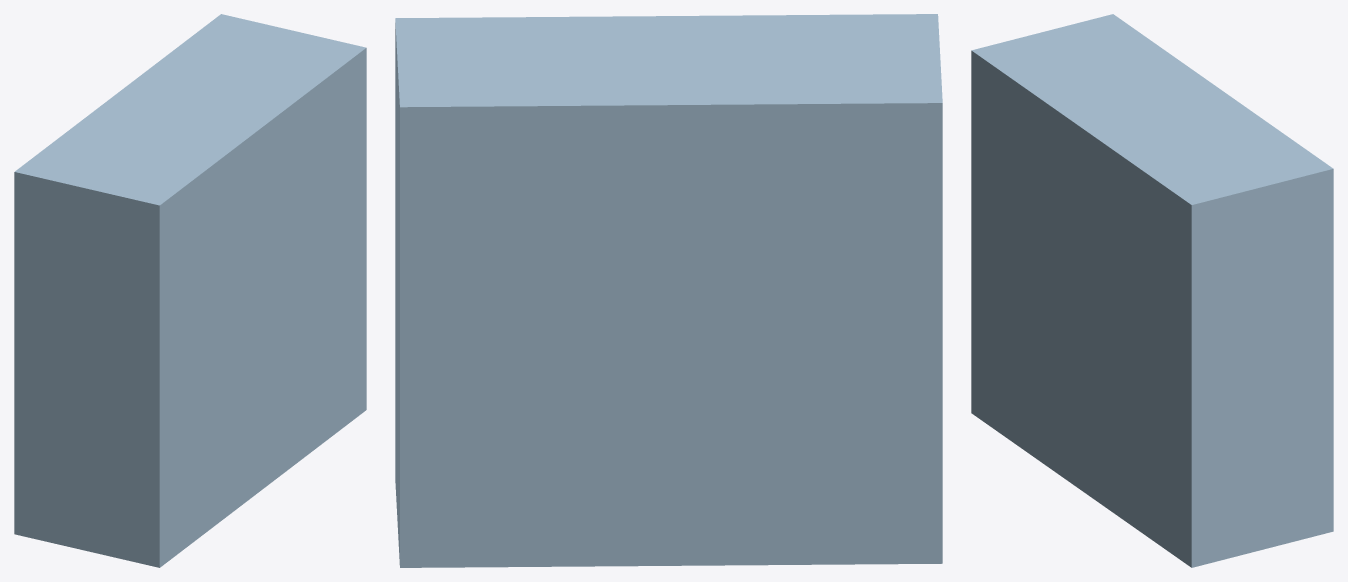
File: osm_way_225267146.glb
The picture shows the model from 3 angles, left to right: view 1: azimuth 30°, elevation 25°; view 2: azimuth 150°, elevation 25°; view 3: azimuth 270°, elevation 25°; orthographic projection. The views are drawn at different scales.
Parts seen in each view (by area): view 1: osm_way_225267146; view 2: osm_way_225267146; view 3: osm_way_225267146.
Boxes of the visible parts, x1=… form: osm_way_225267146: x1=14, y1=14, x2=366, y2=567; osm_way_225267146: x1=395, y1=14, x2=942, y2=567; osm_way_225267146: x1=971, y1=14, x2=1333, y2=567.
Bounding box in the file's own units: 21.7 × 19.2 × 17.38.
